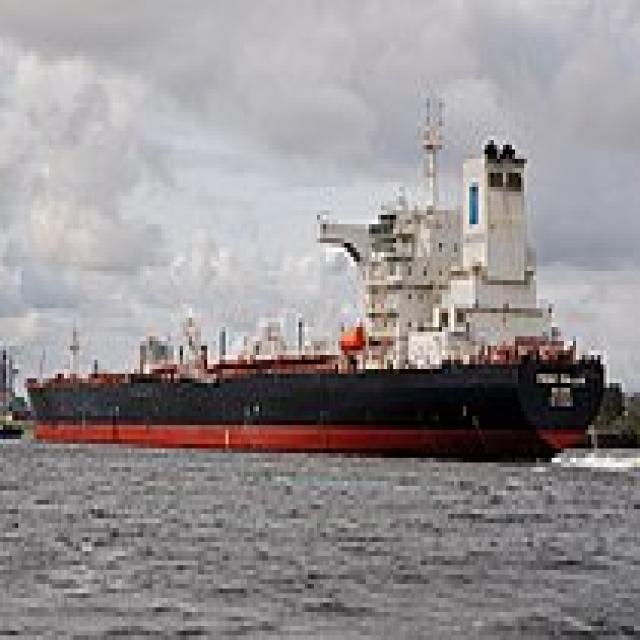Tanker: (19, 70, 604, 463)
